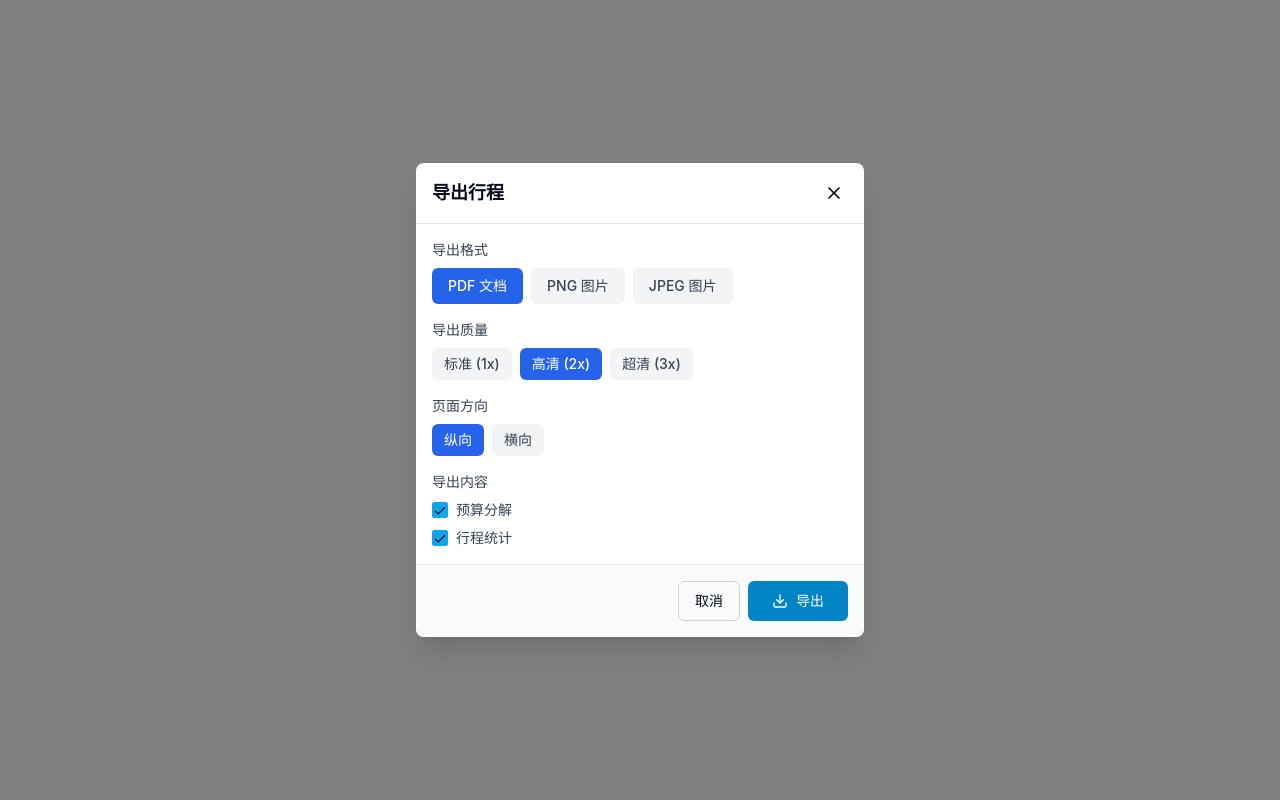
ExportModal › 格式选择 › 选择非 PDF 格式时应该隐藏方向选择
The image size is (1280, 800).
Click the button "PNG 图片".
click(578, 286)  # box [531,268,625,304]
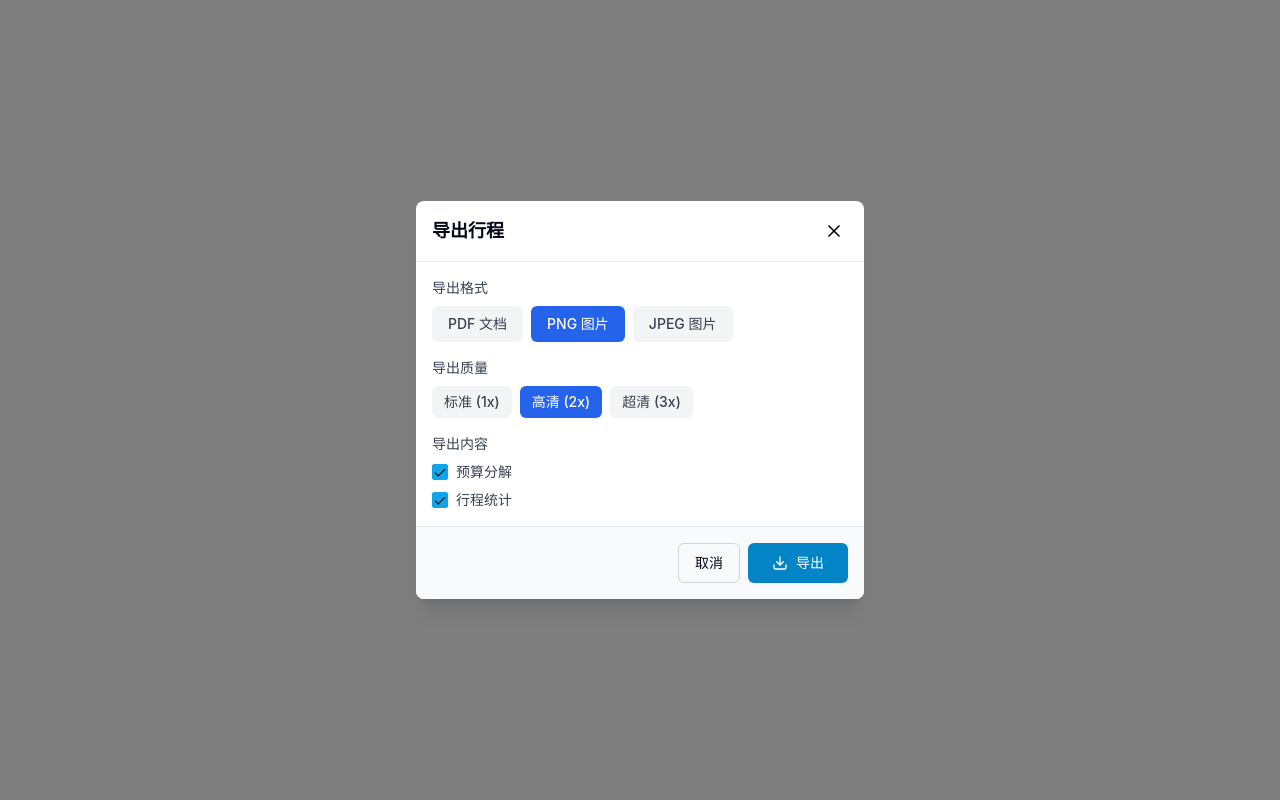
Result: the button "纵向" is gone
Result: the button "横向" is gone
